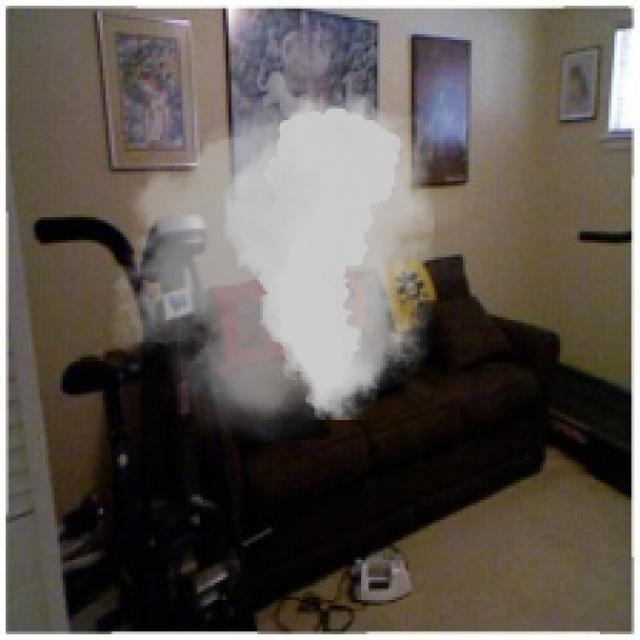Smoke: (91, 83, 463, 443)
